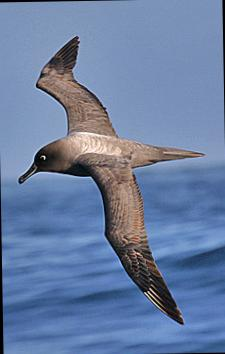bird: (11, 26, 212, 333)
